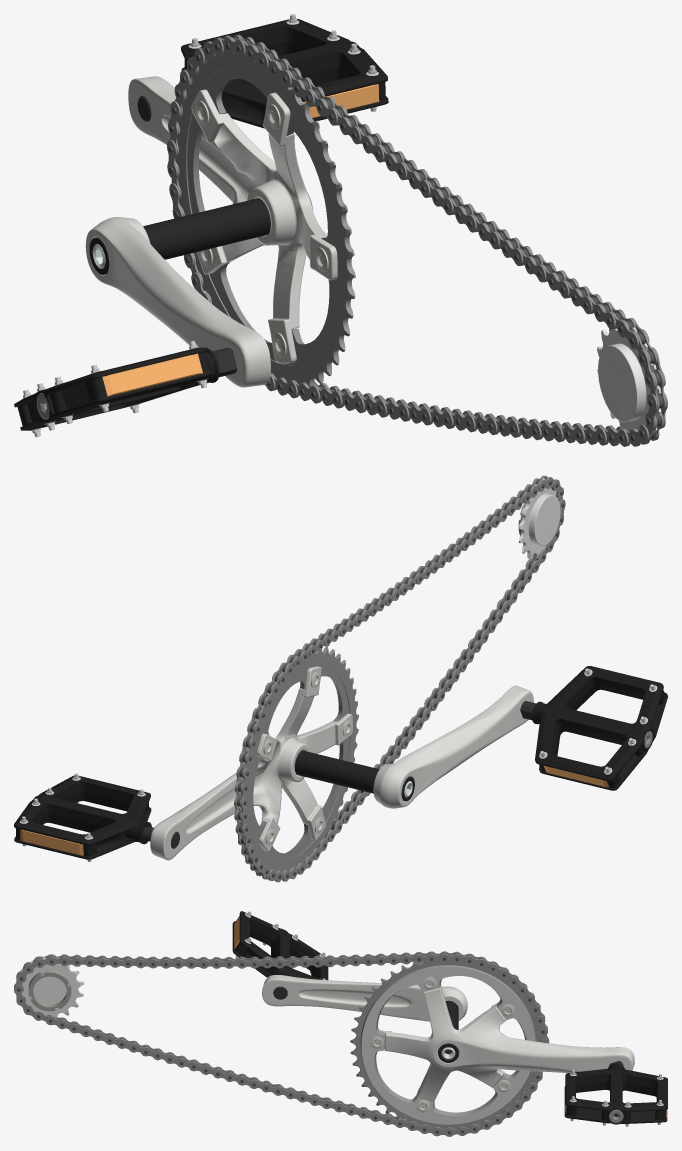
File: drivetrain.fbx
The picture shows the model from 3 angles, top to bottom: view 1: azimuth 30°, elevation 25°; view 2: azimuth 150°, elevation 25°; view 3: azimuth 270°, elevation 25°; orthographic projection. The views are drawn at different scales.
Visible parts, largest first — view 1: crankset, chain-outer-link, Plane.001, Cylinder, chain-inner-link, Circle.006, Circle.012, washer, Circle.004, cog, Circle.017, Circle.000 (+1 smaller); view 2: crankset, chain-outer-link, Circle.012, Circle.006, Plane.001, chain-inner-link, Cylinder, Circle.004, washer, cog, Circle.003; view 3: crankset, chain-outer-link, chainring-black, Plane.001, Circle.006, chain-inner-link, Circle.012, Cylinder, cog, Circle.000, Circle.002, washer.
Part boxes in pixels (<box>): crankset: <box>128,76,337,363</box>; chain-outer-link: <box>167,34,667,446</box>; Plane.001: <box>85,217,270,387</box>; Cylinder: <box>175,44,355,387</box>; chain-inner-link: <box>169,35,666,445</box>; Circle.006: <box>181,18,388,128</box>; Circle.012: <box>14,347,219,430</box>; washer: <box>89,198,270,274</box>; Circle.004: <box>187,67,338,365</box>; cog: <box>597,319,661,432</box>; Circle.017: <box>102,353,202,396</box>; Circle.000: <box>193,81,304,344</box>; crankset: <box>150,666,353,860</box>; chain-outer-link: <box>234,475,565,882</box>; Circle.012: <box>532,666,667,790</box>; Circle.006: <box>14,775,151,859</box>; Plane.001: <box>373,685,533,808</box>; chain-inner-link: <box>235,475,564,881</box>; Cylinder: <box>239,646,358,872</box>; Circle.004: <box>250,664,349,861</box>; washer: <box>295,750,414,801</box>; cog: <box>518,478,560,559</box>; Circle.003: <box>20,829,83,855</box>; crankset: <box>381,985,634,1101</box>; chain-outer-link: <box>14,951,548,1136</box>; chainring-black: <box>361,967,535,1124</box>; Plane.001: <box>262,975,467,1021</box>; Circle.006: <box>564,1063,667,1124</box>; chain-inner-link: <box>14,951,549,1134</box>; Circle.012: <box>232,911,328,980</box>; Cylinder: <box>350,955,541,1129</box>; cog: <box>16,957,84,1019</box>; Circle.000: <box>360,965,536,1116</box>; Circle.002: <box>28,970,71,1011</box>; washer: <box>438,1000,458,1062</box>.
Size of the model in its own units: 39.67 by 20.37 by 66.15.
